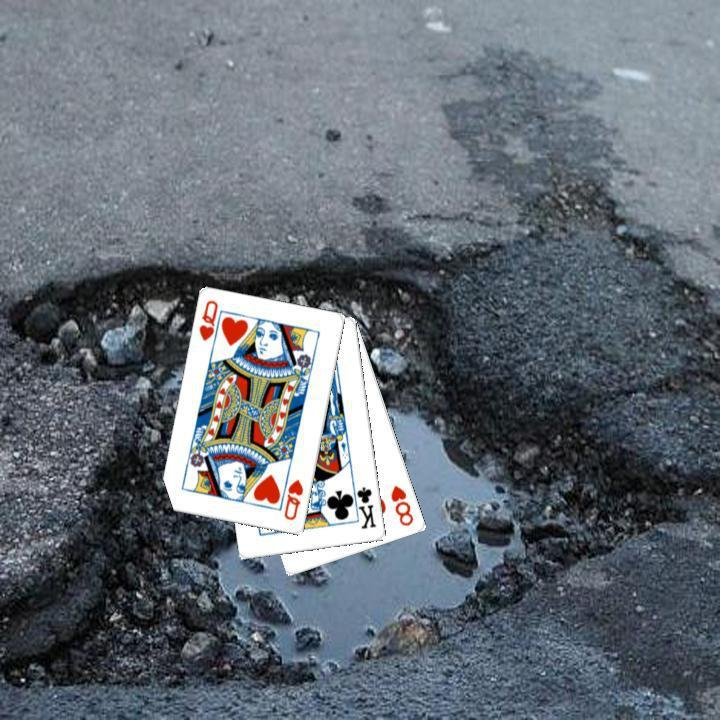8: (386, 481, 416, 528)
K: (348, 480, 378, 531)
Q: (195, 296, 225, 351), (280, 475, 306, 523)
